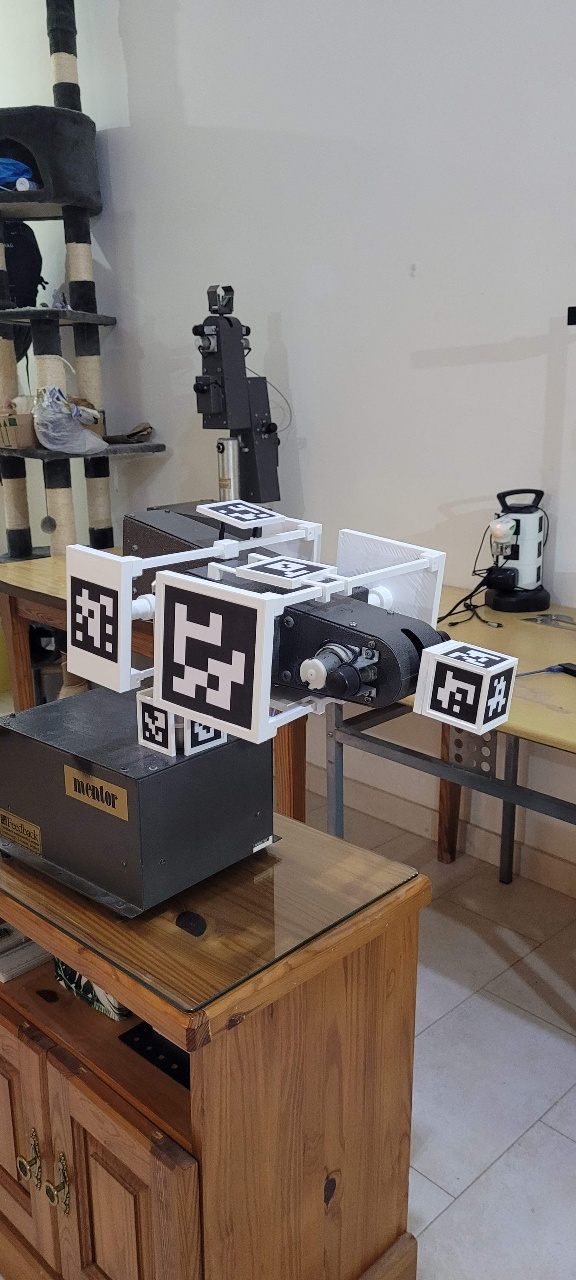Robot: (57, 280, 553, 1114)
